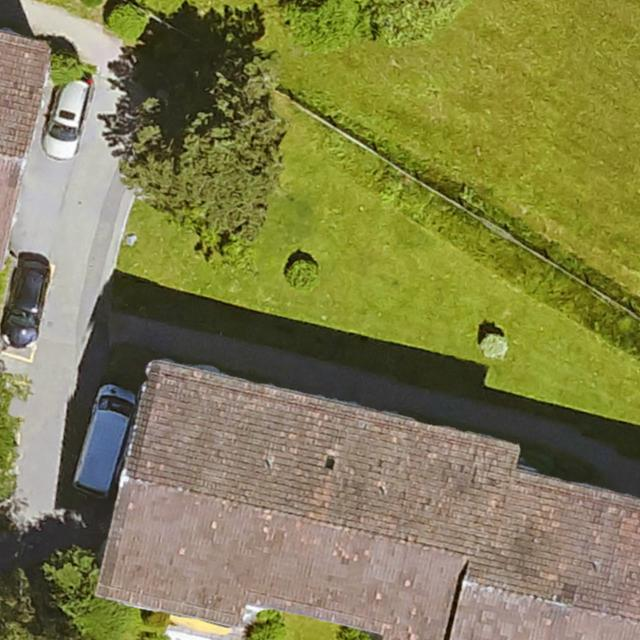tree: (131, 73, 273, 242), (368, 0, 457, 44), (287, 0, 355, 53), (109, 6, 145, 42), (49, 54, 83, 85), (289, 264, 317, 290), (483, 338, 509, 359)
